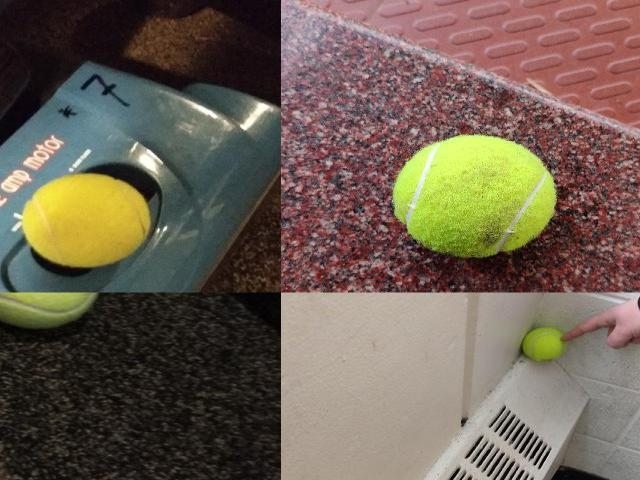tennis-ball: (393, 135, 555, 257), (21, 174, 151, 268), (0, 292, 101, 330), (521, 327, 567, 361)
